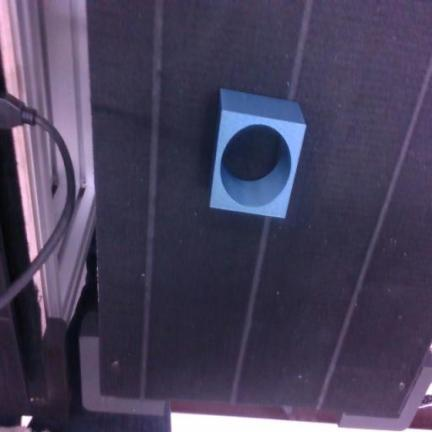hole: (211, 90, 306, 217)
